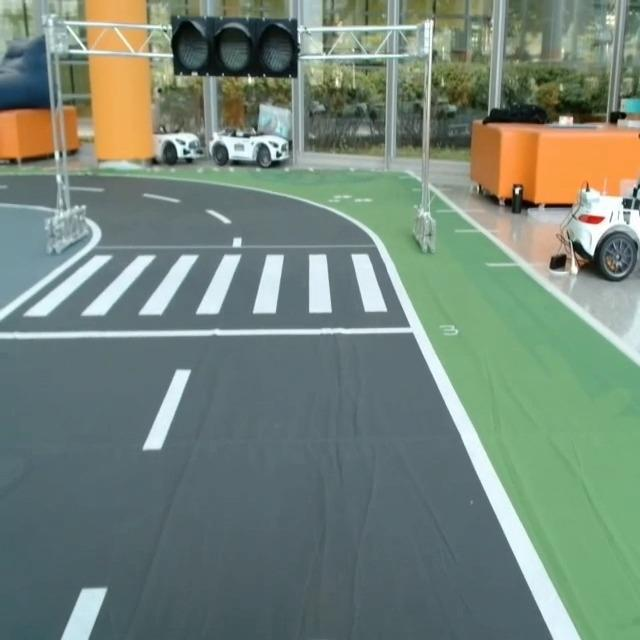traffic-light: (166, 11, 305, 82)
